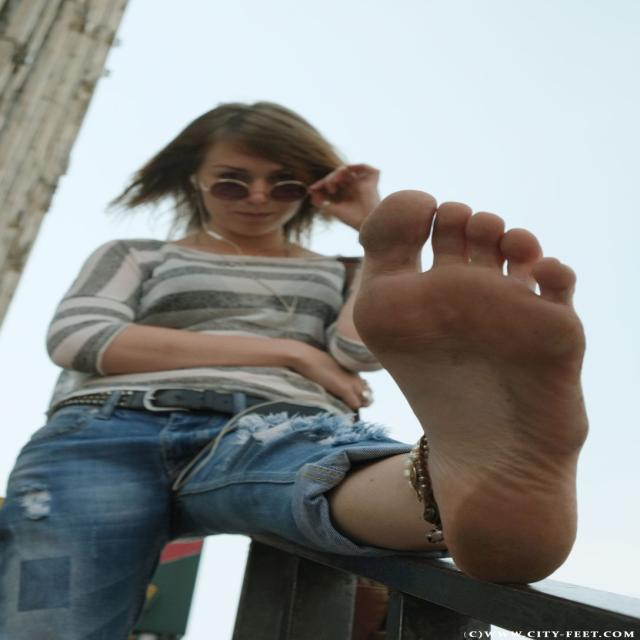Barefoots: (353, 189, 590, 585)
